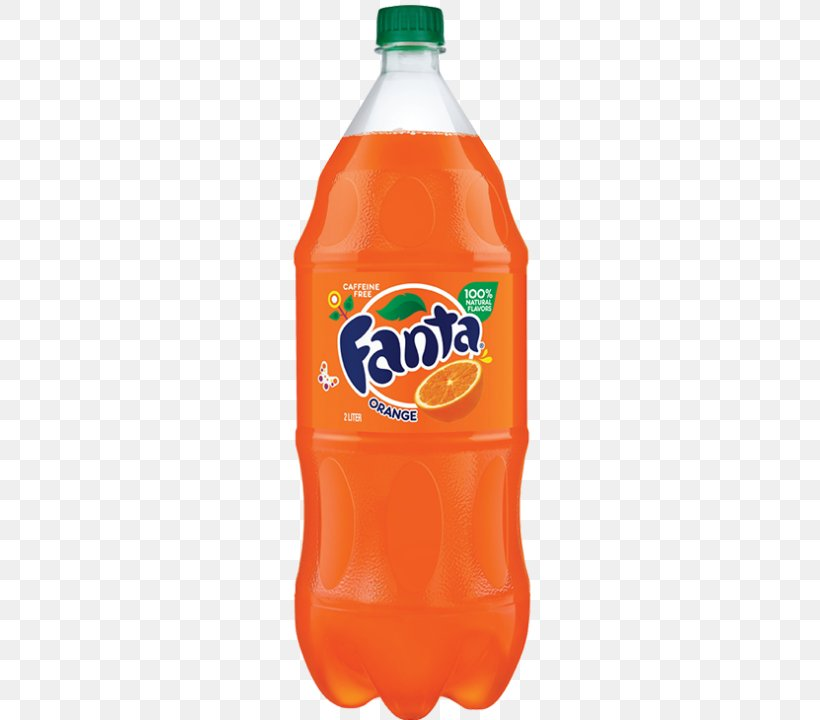fanta_bottle: (294, 3, 531, 720)
